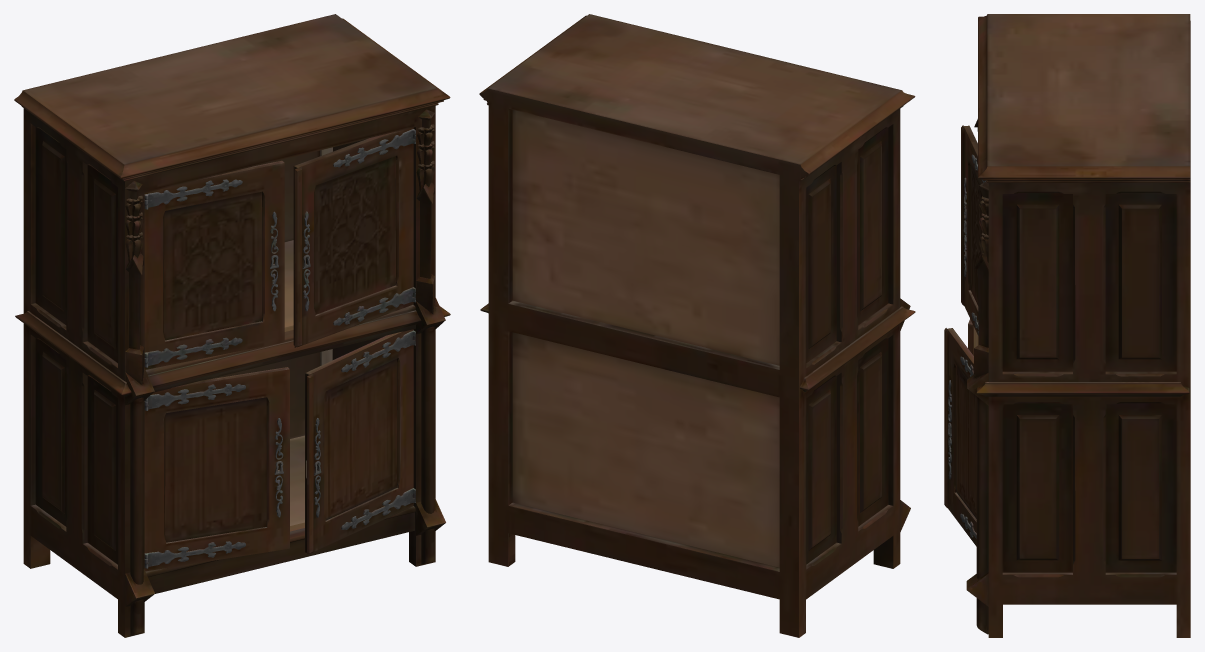
Rendered from GothicCabinet_01.glb.
3 views of the same model, side by side, from view 1: azimuth 30°, elevation 25°; view 2: azimuth 150°, elevation 25°; view 3: azimuth 270°, elevation 25° (orthographic).
Visible parts, largest first — view 1: GothicCabinet_01_cabinet; view 2: GothicCabinet_01_cabinet; view 3: GothicCabinet_01_cabinet.
Part boxes in pixels (x1,y1,x2,y2): GothicCabinet_01_cabinet: [14, 14, 450, 637]; GothicCabinet_01_cabinet: [479, 14, 915, 637]; GothicCabinet_01_cabinet: [944, 14, 1190, 637].
Bounding box in the file's own units: 1.72 × 2.36 × 1.12.
1 material, 1 textured.
